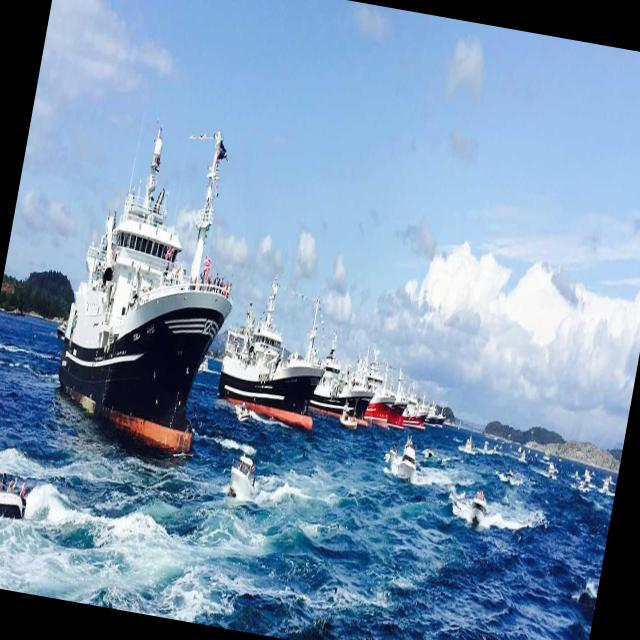boat: (34, 78, 270, 491), (199, 235, 344, 463), (294, 283, 394, 452)
